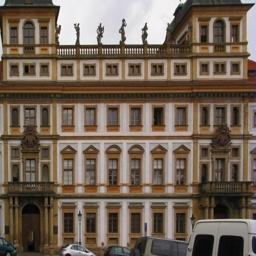building: (1, 0, 256, 243)
